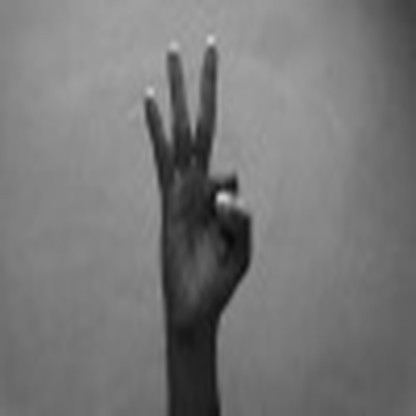f: (130, 18, 267, 325)
